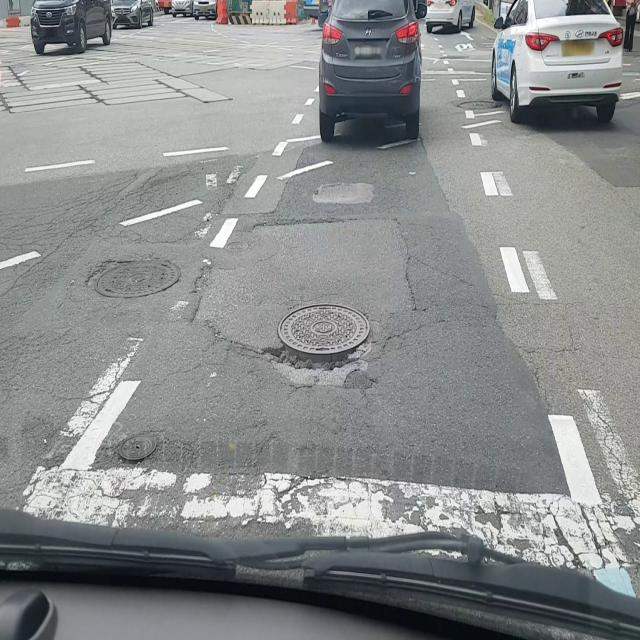Pothole: (260, 300, 373, 377)
